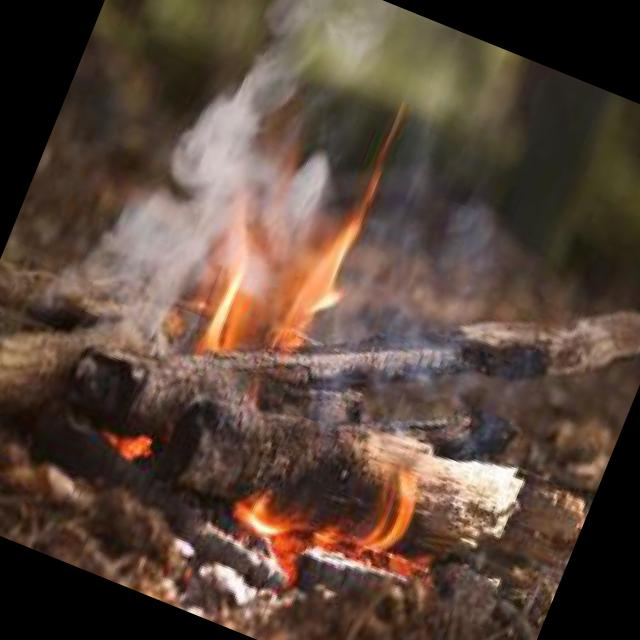fire: (235, 90, 425, 390), (229, 420, 443, 604), (178, 246, 270, 378)
smoke: (64, 0, 352, 365)
